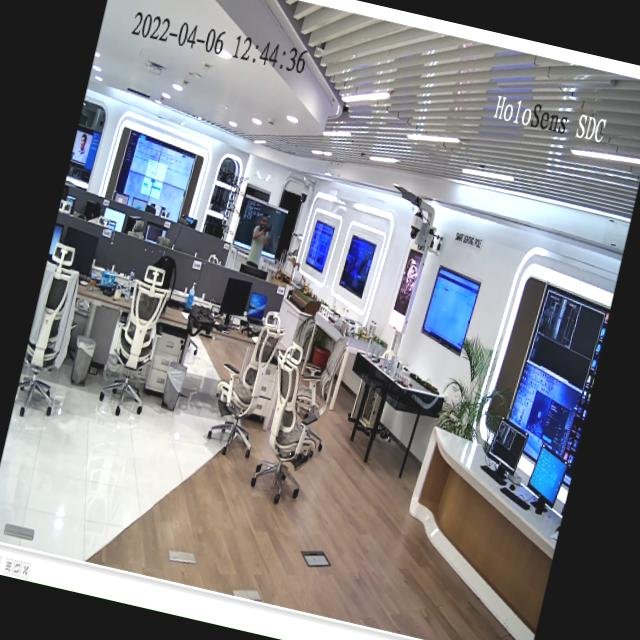long weapon: (258, 220, 274, 240)
